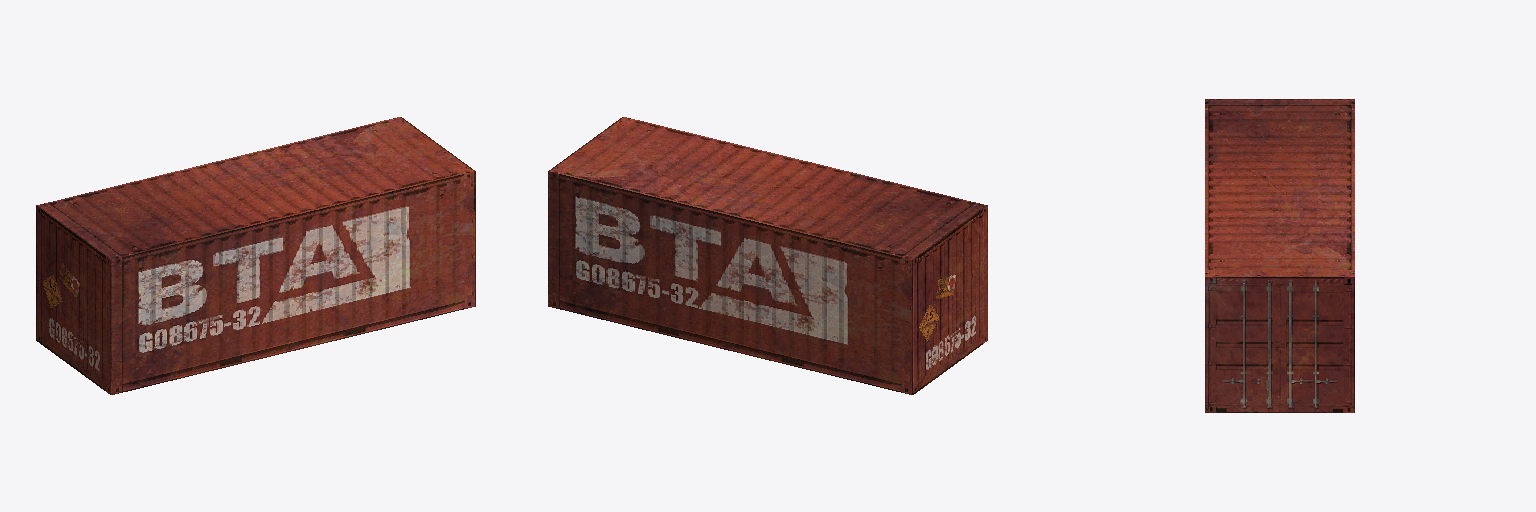
The picture shows the model from 3 angles: view 1: azimuth 30°, elevation 25°; view 2: azimuth 150°, elevation 25°; view 3: azimuth 270°, elevation 25°; orthographic projection.
Parts seen in each view (by area): view 1: CargoC0; view 2: CargoC0; view 3: CargoC0.
Part boxes in pixels (bbox=[...]): CargoC0: bbox=[36, 117, 475, 394]; CargoC0: bbox=[548, 117, 987, 394]; CargoC0: bbox=[1205, 99, 1354, 412].
Size of the model in its own units: 6.2 by 2.2 by 2.2.
Materials: 1 (1 with a texture image).